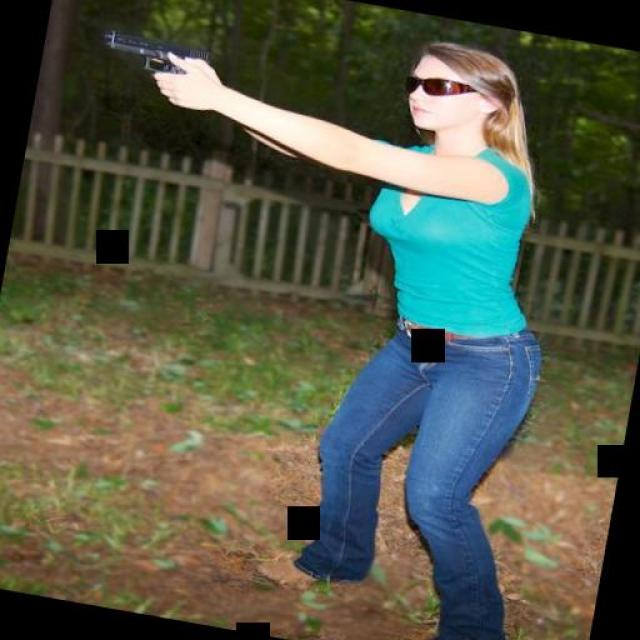gun: (90, 23, 212, 108)
